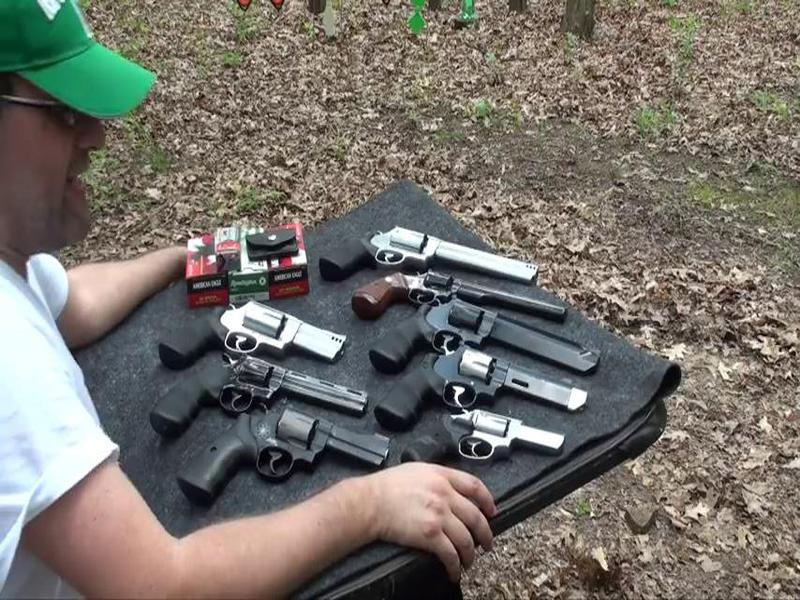Revolver: (145, 289, 353, 382)
